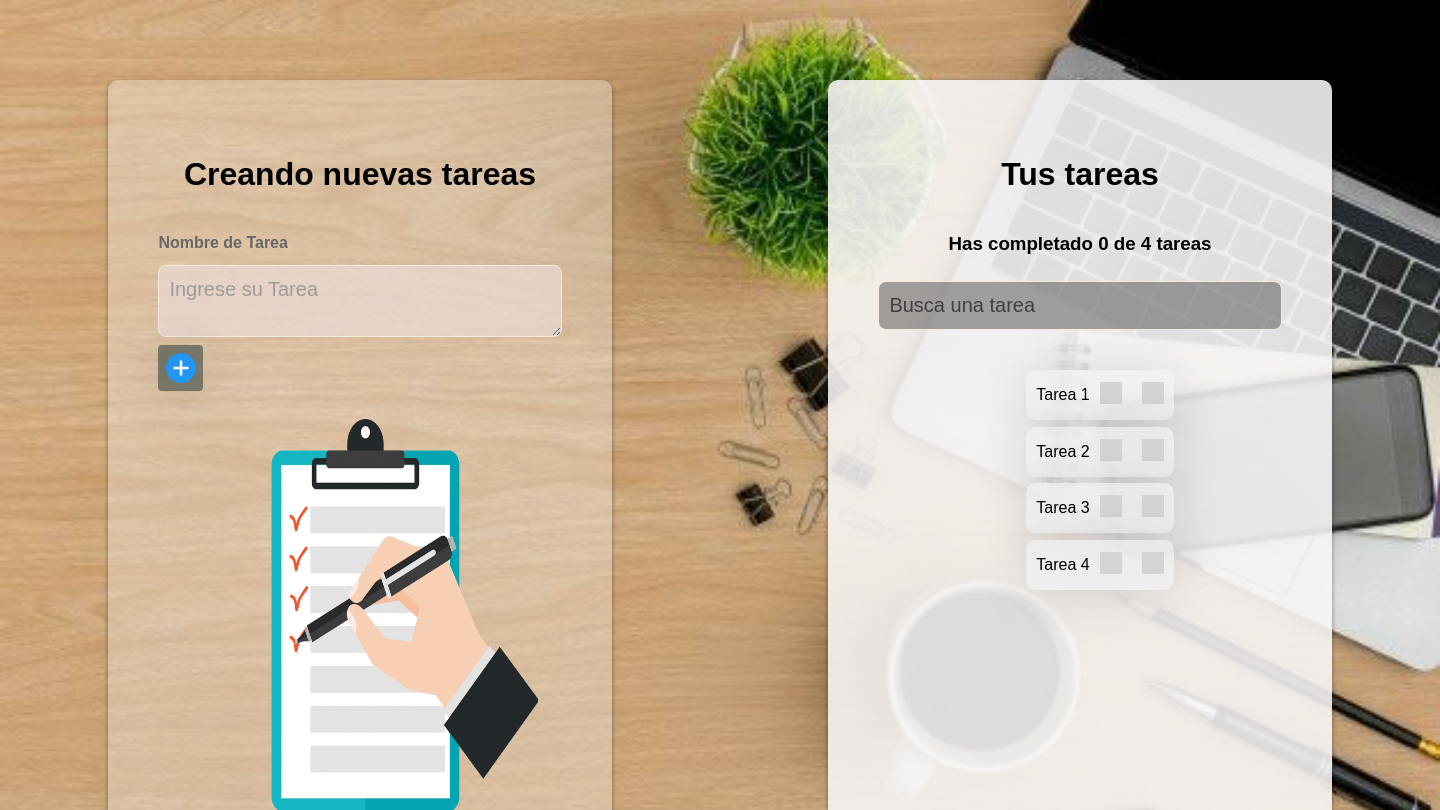
Test: Casos de Prueba Documentados - Validaciones, Casos Borde y Persistencia › TC012 - Tareas con nombres duplicados
This screenshot has width=1440, height=810.
Step 1. Type "Tarea" into the text box with placeholder "Ingrese su Tarea" → (360,301), box [158,265,562,337]
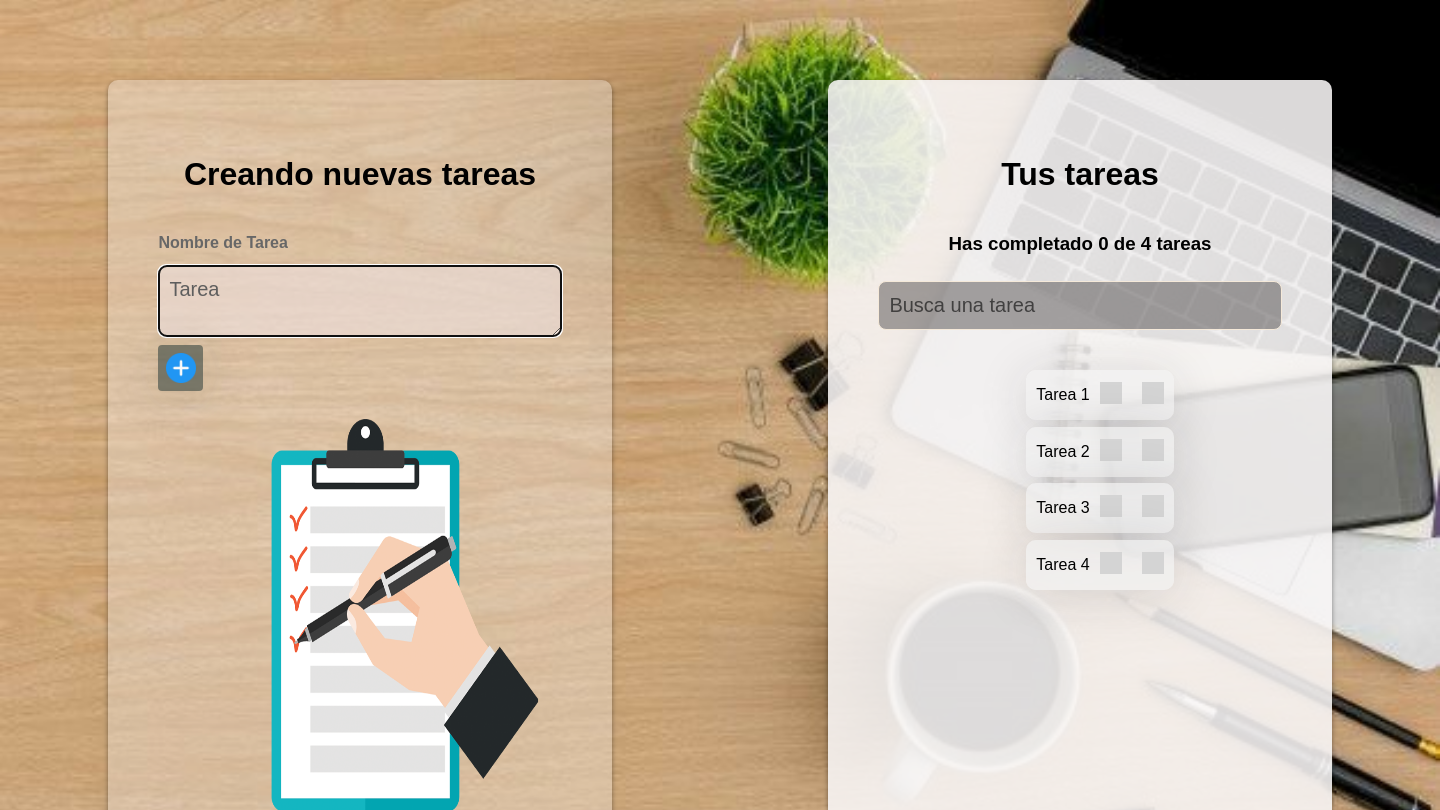
Step 2. Click the button → (181,368), box [158,345,203,391]
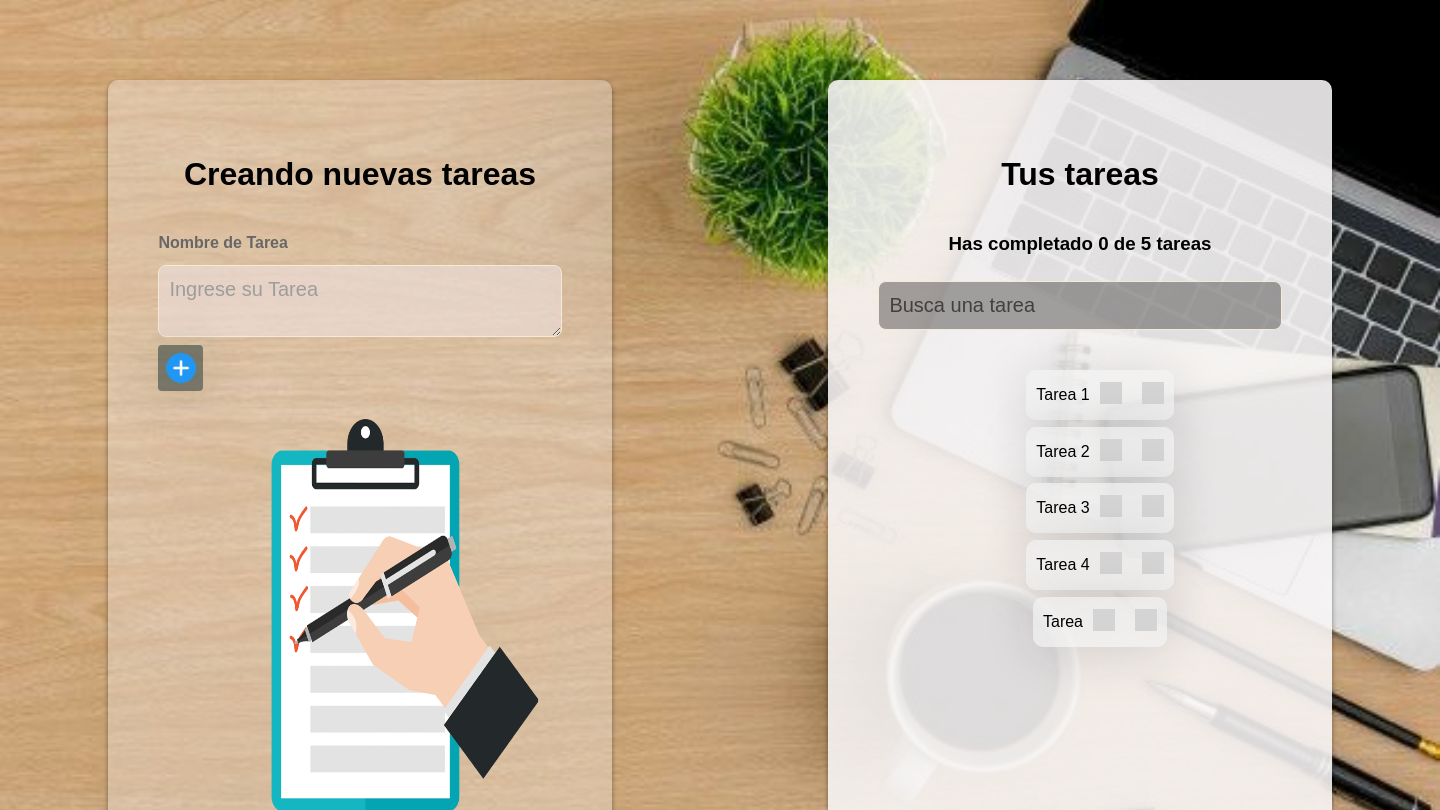
Step 3. Type "Tarea" into the text box with placeholder "Ingrese su Tarea" → (360,301), box [158,265,562,337]
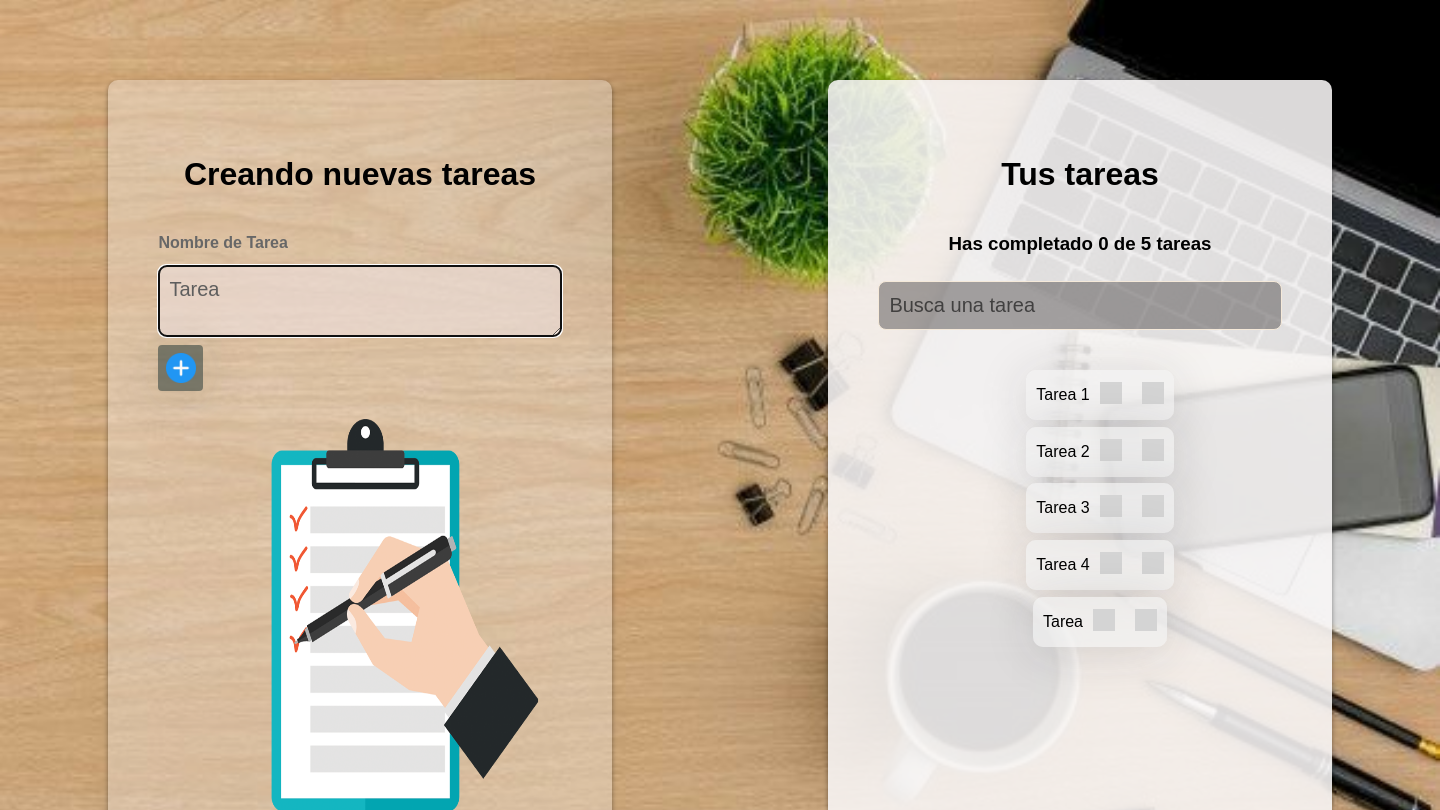
Step 4. Click the button → (181,368), box [158,345,203,391]
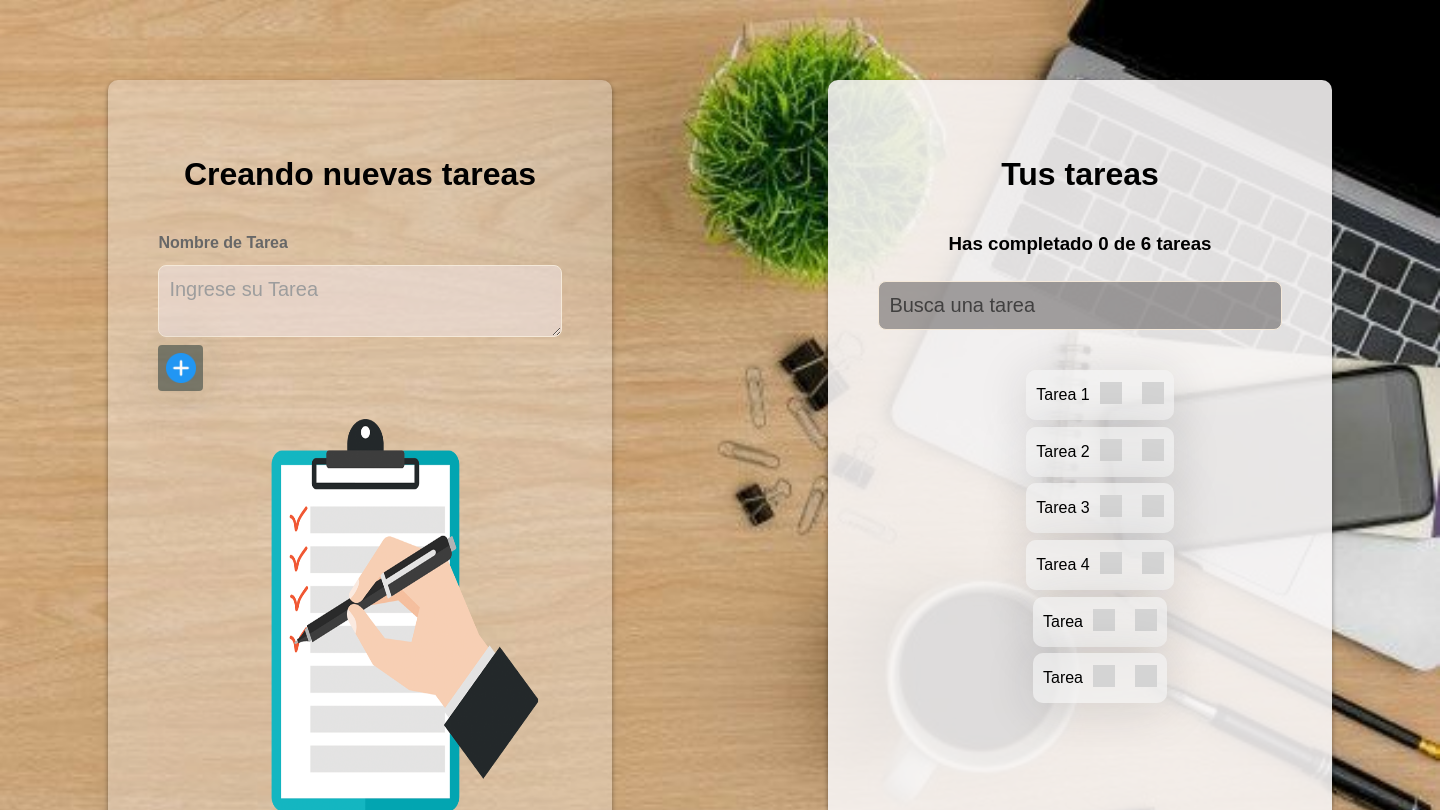
expect the text "Tarea" is shown 2 times: met, box [1043,613,1083,631]; [1043,669,1083,687]
